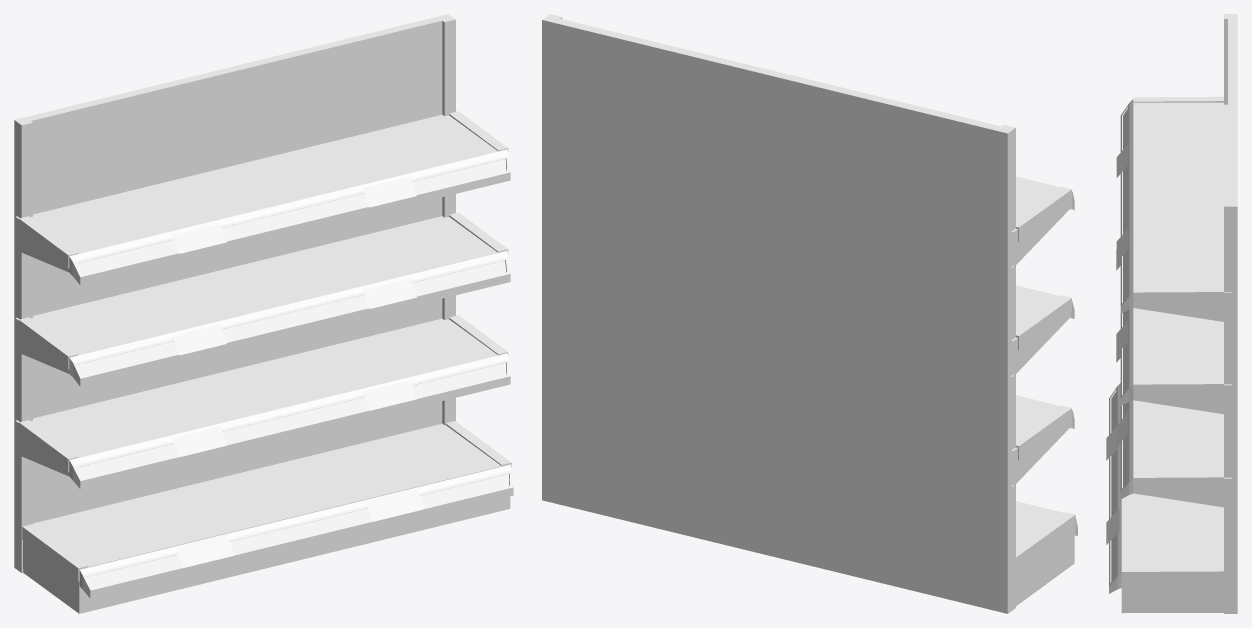
3 renders of one model, left to right at view 1: azimuth 30°, elevation 25°; view 2: azimuth 150°, elevation 25°; view 3: azimuth 270°, elevation 25°, orthographic. The views are drawn at different scales.
Parts seen in each view (by area): view 1: ke, than, gia, pCube30, P_01, P_05, P_02, p_08, P_03, P_07, P_04, P_06; view 2: than, gia, ke, pCube30; view 3: ke, than, gia, pCube30, P_01, P_04, p_08, P_05, P_02, P_03.
Part boxes in pixels (box(x1,y1,x2,y2)): ke: box(15, 114, 513, 598); than: box(23, 21, 510, 613); gia: box(14, 14, 455, 572); pCube30: box(18, 111, 511, 581); P_01: box(366, 488, 424, 521); P_05: box(176, 535, 234, 567); P_02: box(363, 380, 416, 410); p_08: box(173, 223, 226, 253); P_03: box(363, 278, 416, 308); P_07: box(173, 324, 226, 355); P_04: box(363, 176, 416, 207); P_06: box(173, 426, 226, 457); than: box(542, 20, 1074, 613); gia: box(542, 14, 1015, 613); ke: box(1011, 176, 1077, 536); pCube30: box(1016, 186, 1075, 571); ke: box(1109, 99, 1231, 593); than: box(1121, 493, 1223, 613); gia: box(1224, 14, 1237, 613); pCube30: box(1121, 96, 1223, 583); P_01: box(1106, 508, 1119, 544); P_04: box(1116, 228, 1128, 262); p_08: box(1116, 144, 1128, 177); P_05: box(1106, 427, 1119, 460); P_02: box(1116, 413, 1127, 446); P_03: box(1116, 321, 1127, 354).
Size of the model in its own units: 246 by 239 by 69.73.
